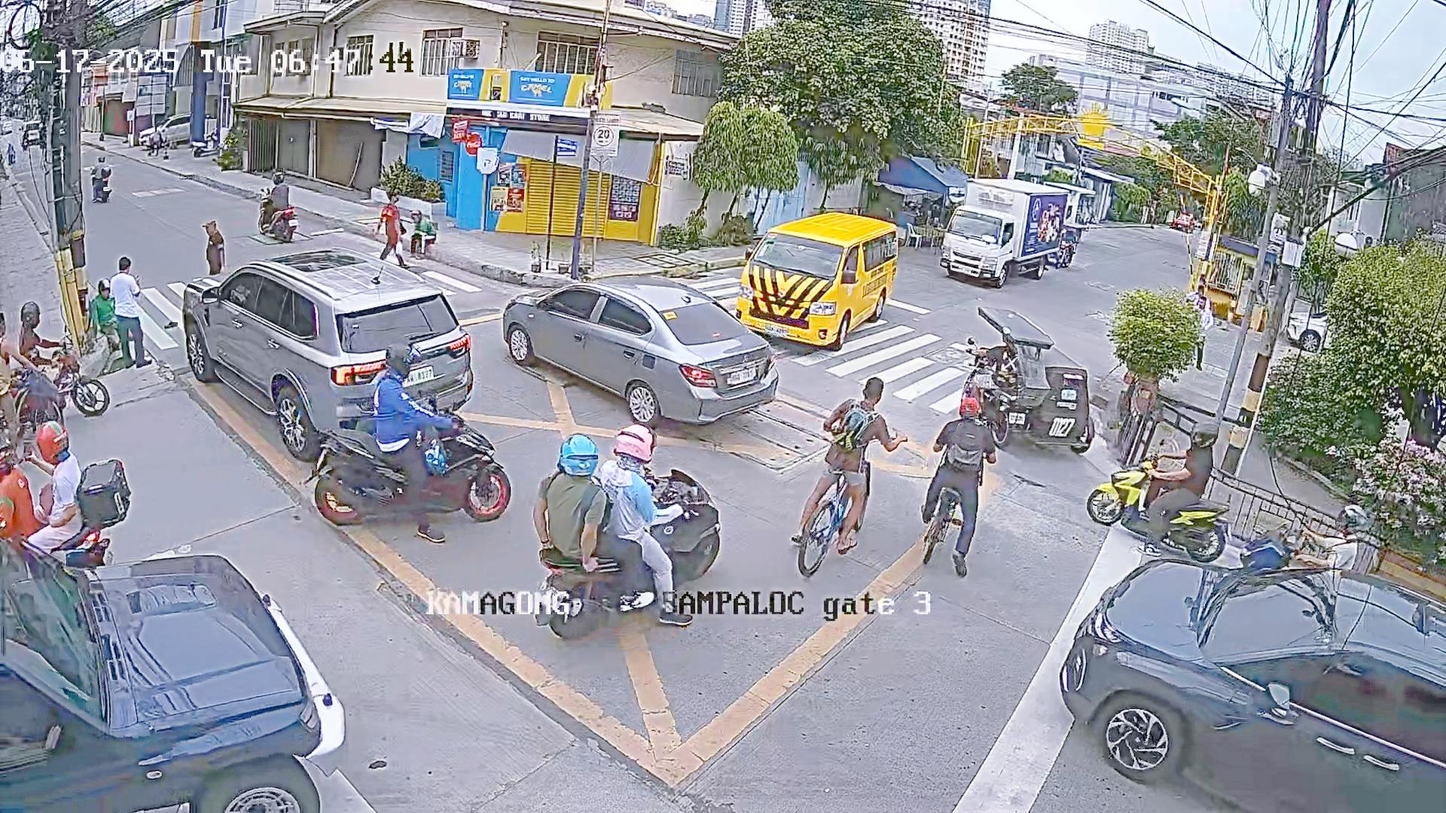Car: (0, 472, 349, 813), (1042, 530, 1446, 806), (169, 237, 489, 462), (505, 241, 799, 461), (705, 179, 915, 364), (938, 151, 1131, 321)
Motor: (505, 395, 745, 665), (313, 321, 496, 547), (1068, 414, 1251, 597), (0, 410, 182, 556), (0, 289, 139, 450), (1241, 456, 1409, 587), (72, 133, 176, 234), (241, 170, 327, 252)
